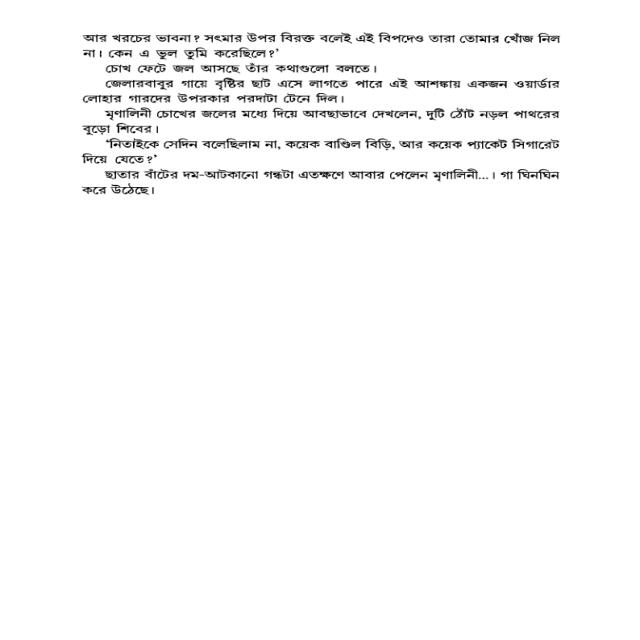paragraph: (74, 168, 568, 200), (75, 106, 568, 136), (73, 31, 572, 60), (73, 137, 569, 166), (77, 77, 564, 105), (86, 61, 383, 77)
